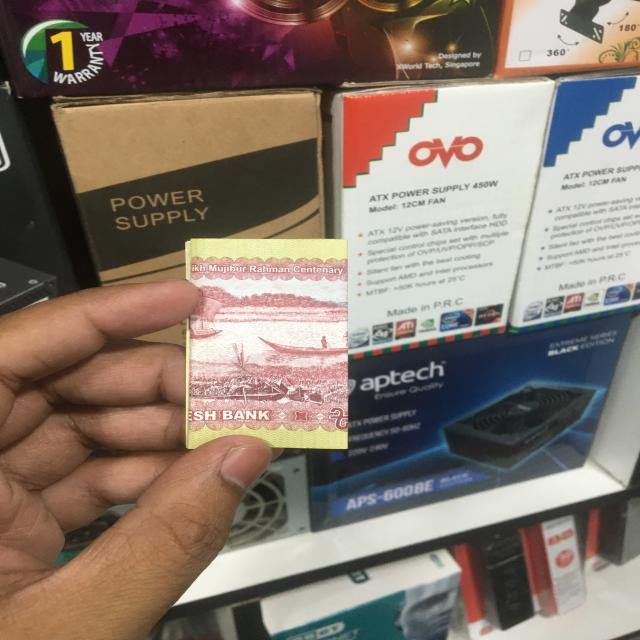Taka: (187, 231, 342, 440)
